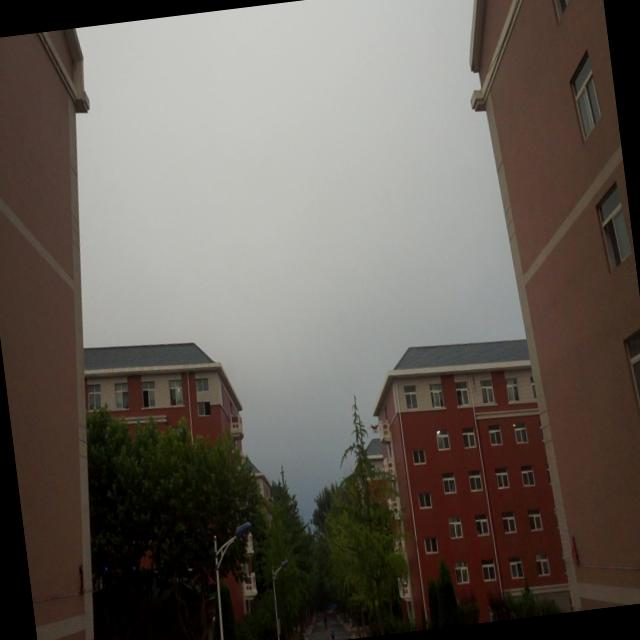drone: (368, 418, 382, 436)
